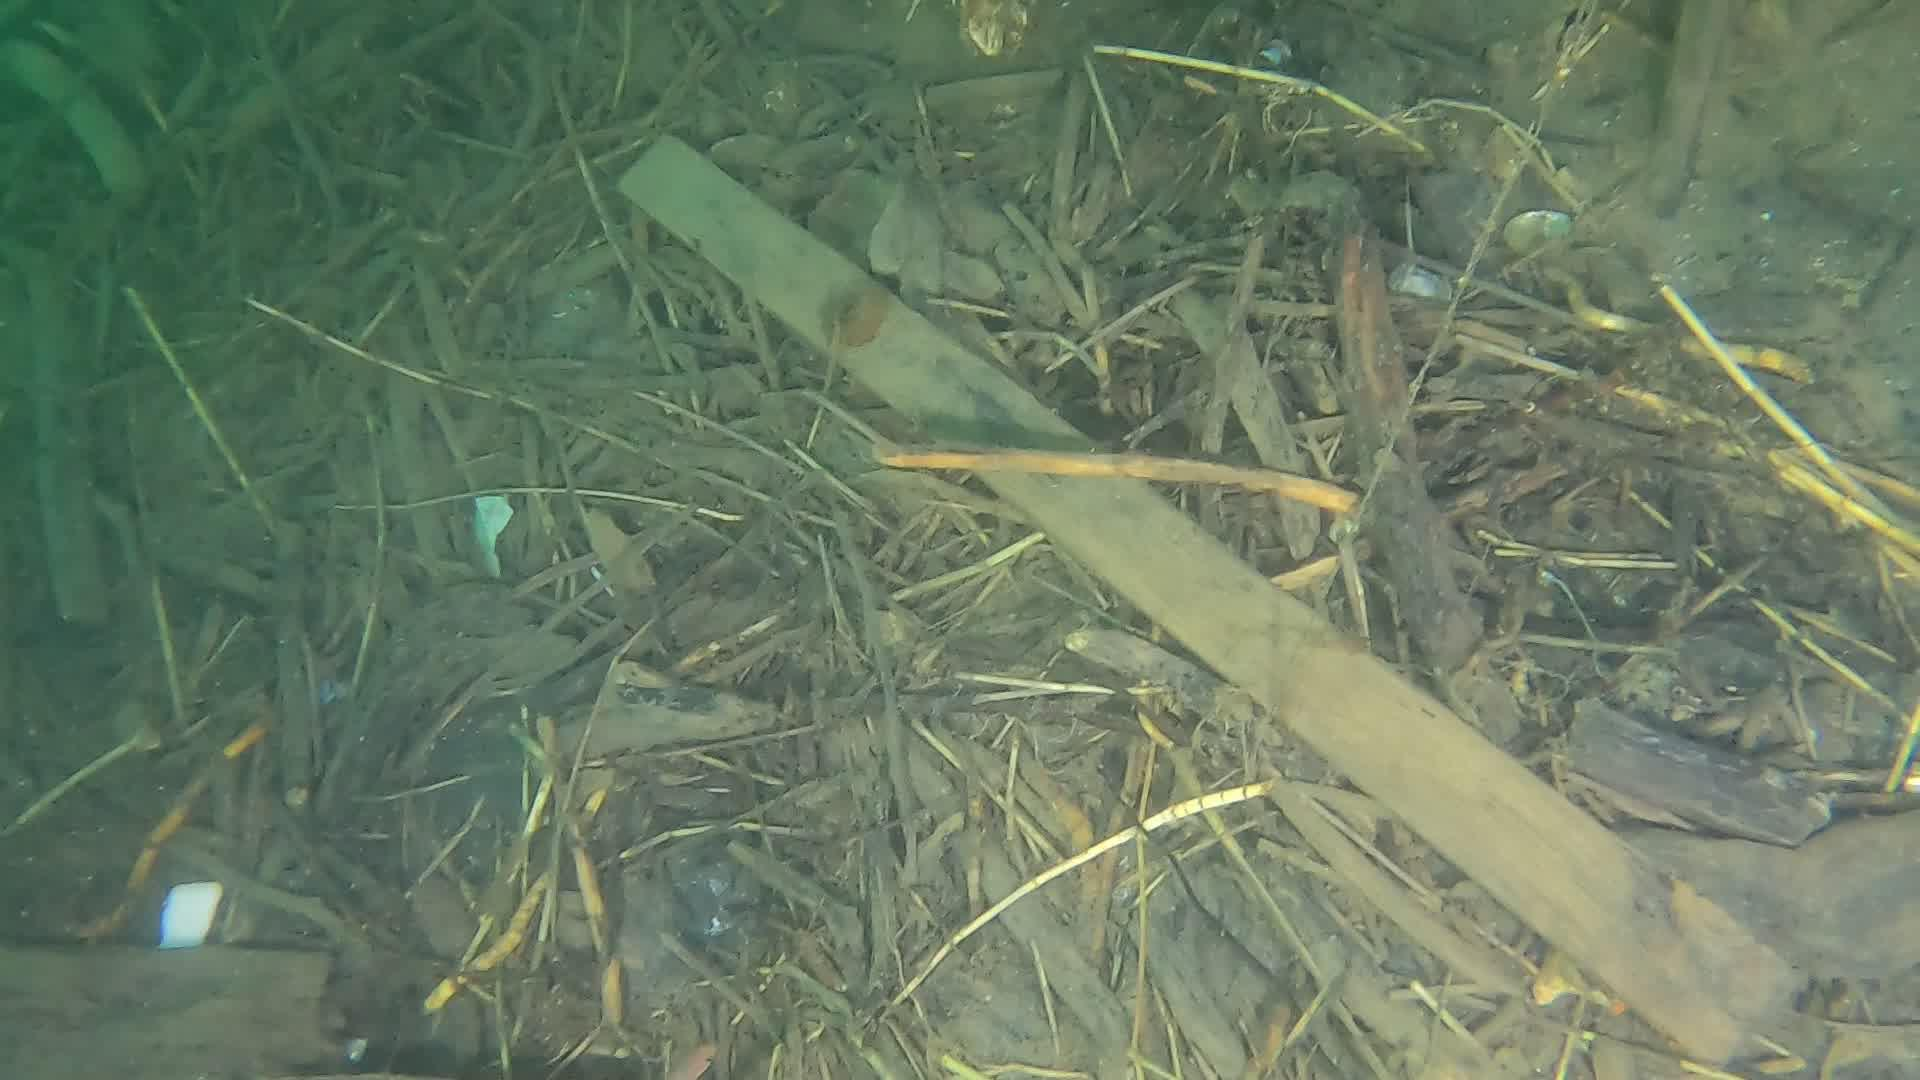wood: (616, 131, 1795, 1069), (0, 942, 334, 1080)
